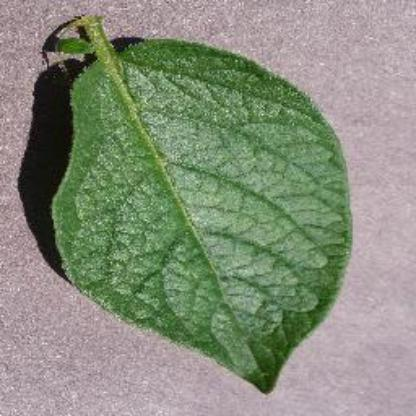Healthy-plant: (38, 10, 360, 398)
